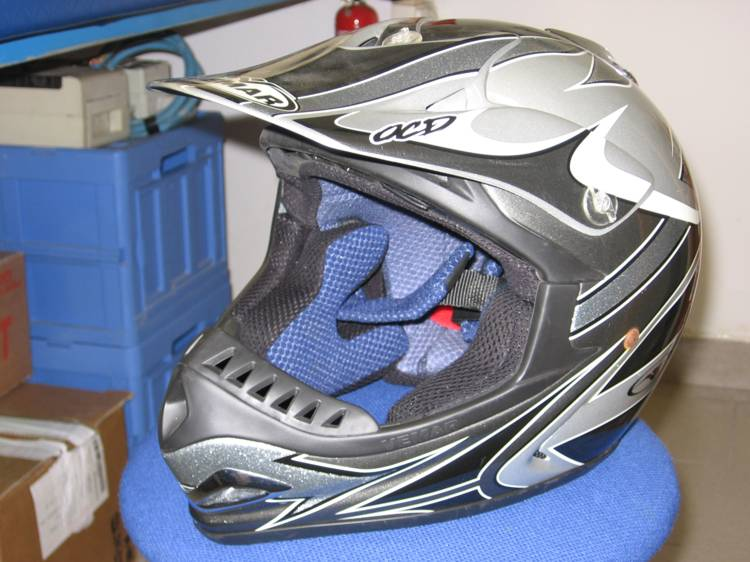helmet: (193, 19, 709, 498)
